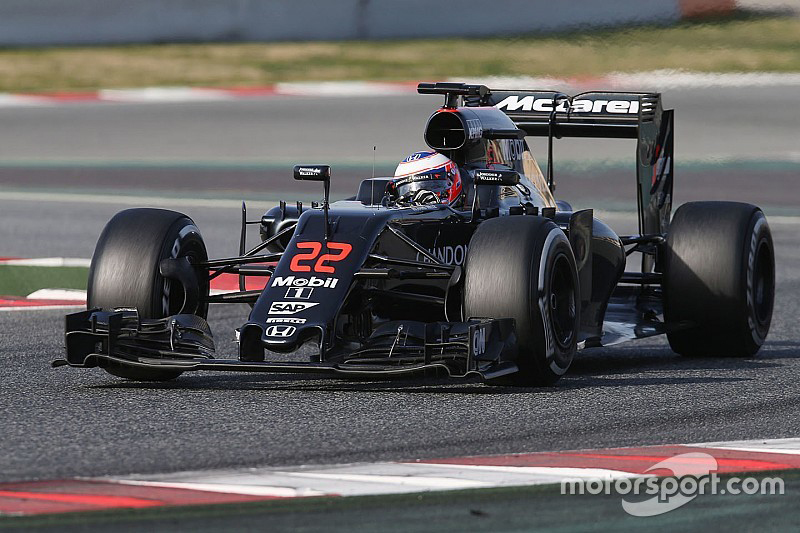F1 Car: (47, 79, 781, 395)
